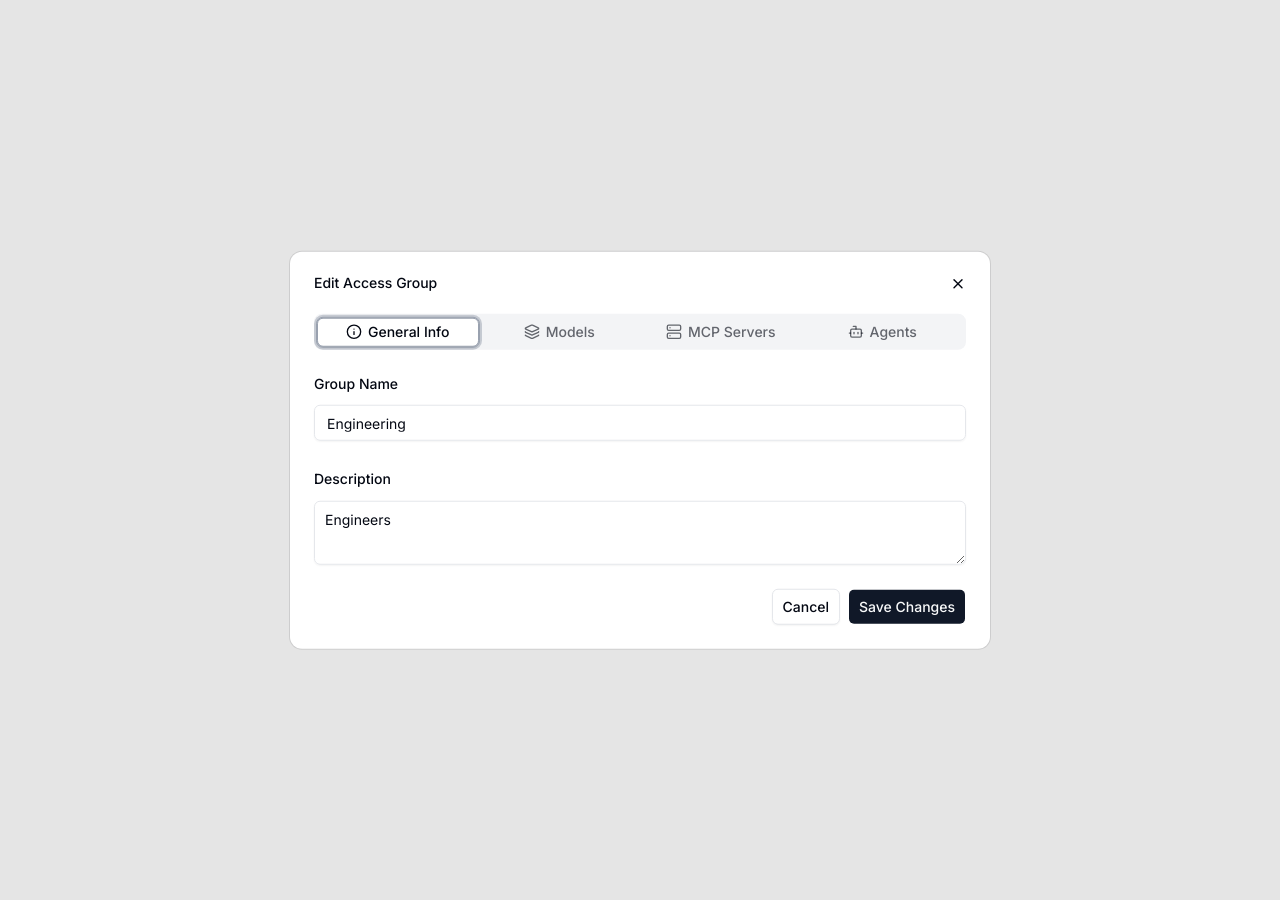
Test case: AccessGroupEditModal submit payload › does not submit when the group name is cleared
Clear the field showing "Engineering". click: (640, 423)
box: [314, 405, 966, 441]
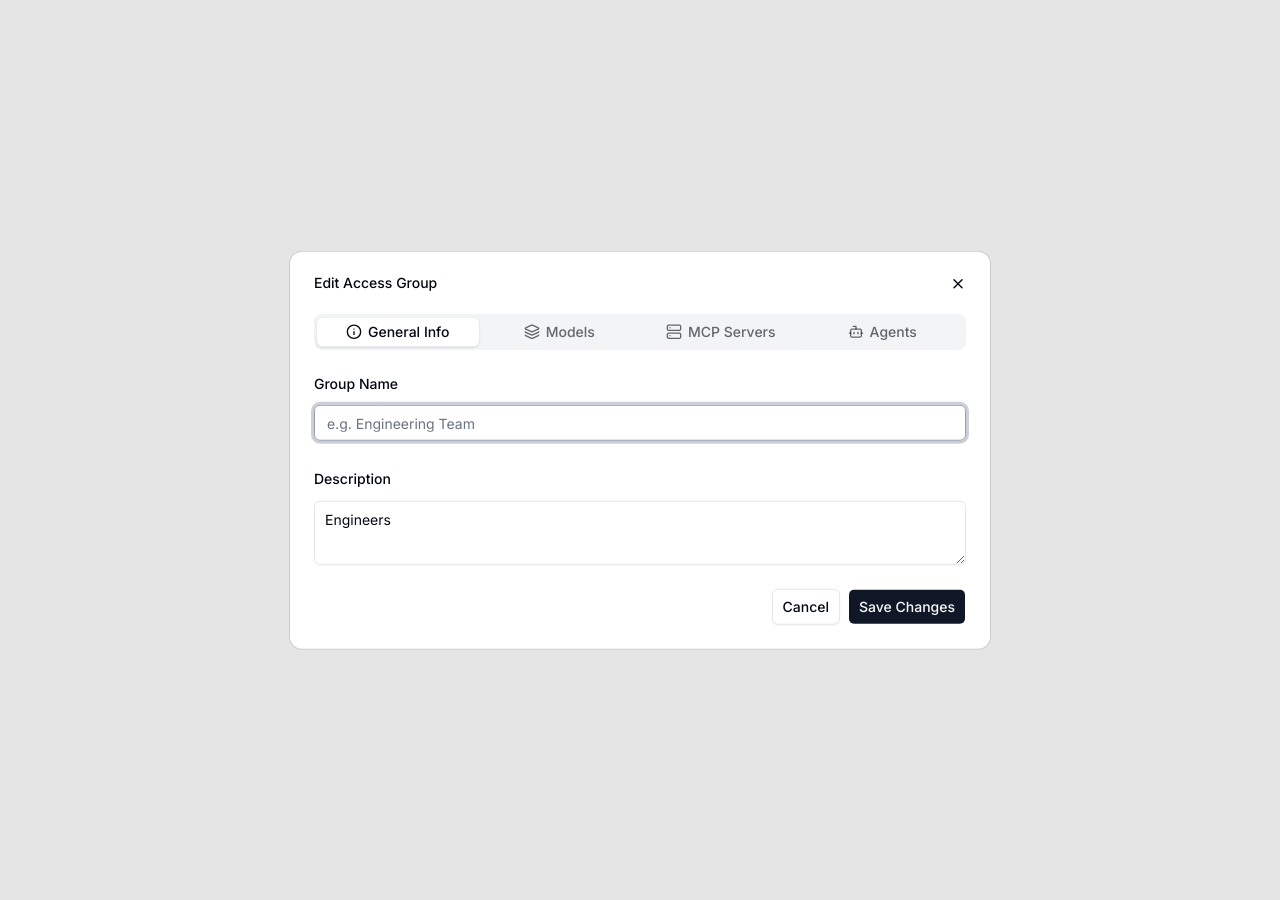
Click the button "Save Changes". click: (907, 606)
box: [848, 588, 966, 624]
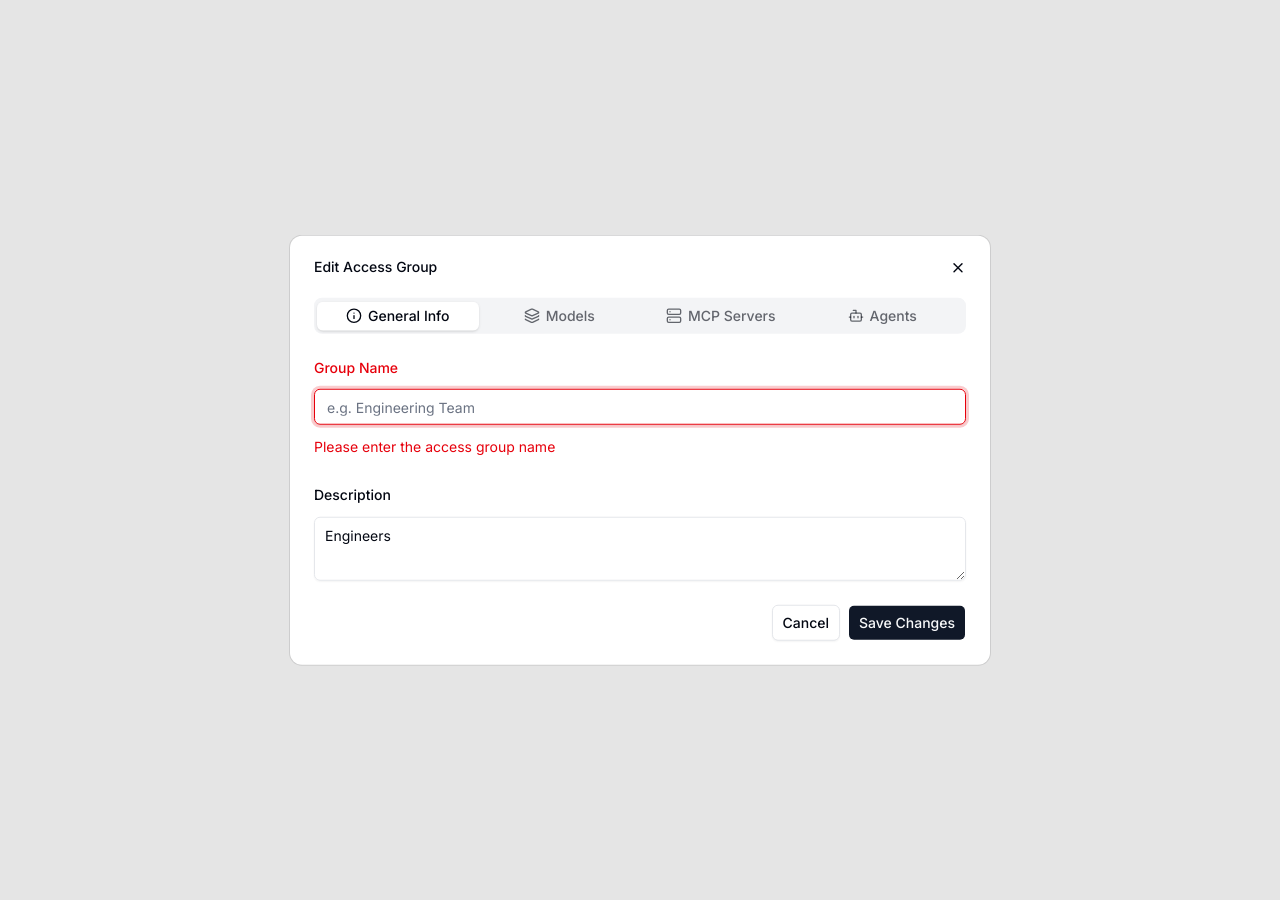
Result: the text "Please enter the access group name" is shown at [314, 438, 555, 455]
